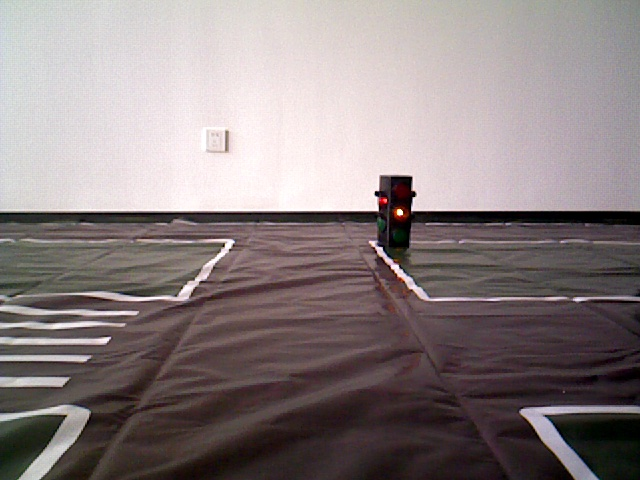yellow: (378, 174, 412, 251)
